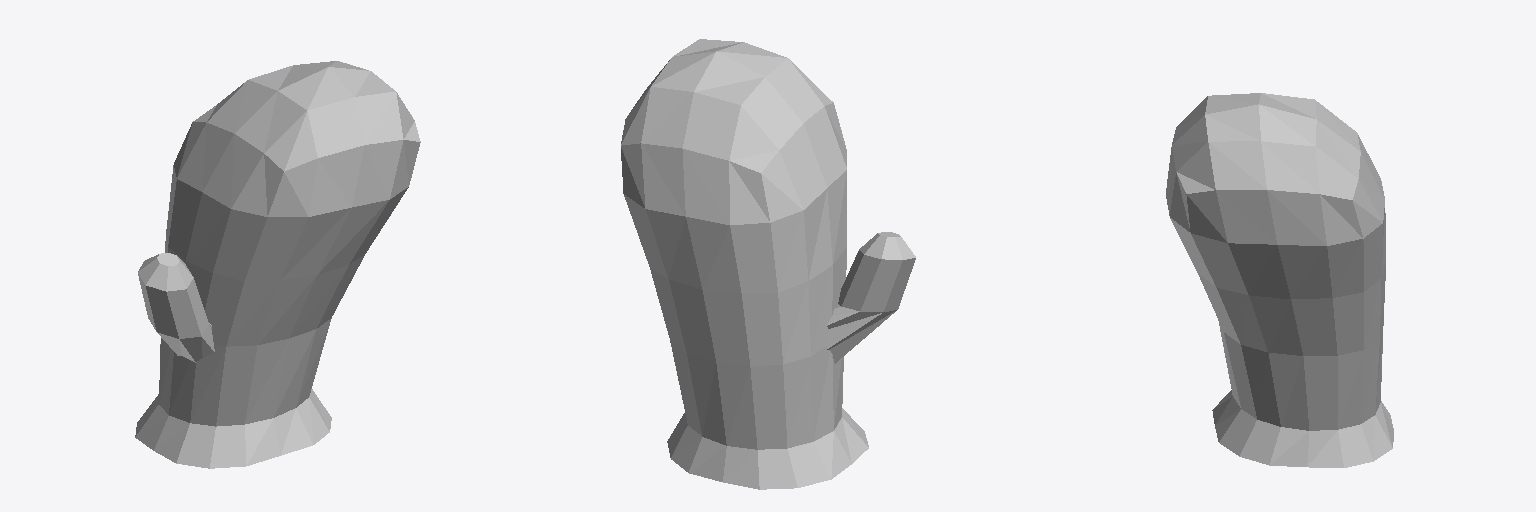
Rendered from cactuses_1.obj.
3 renders of one model, left to right at view 1: azimuth 30°, elevation 25°; view 2: azimuth 150°, elevation 25°; view 3: azimuth 270°, elevation 25°, orthographic.
Visible parts, largest first — view 1: Plane.003; view 2: Plane.003; view 3: Plane.003.
Boxes of the visible parts, x1=… form: Plane.003: x1=135, y1=61, x2=420, y2=468; Plane.003: x1=621, y1=39, x2=915, y2=489; Plane.003: x1=1166, y1=93, x2=1393, y2=467.
Bounding box in the file's own units: 2.12 × 2.84 × 1.62.